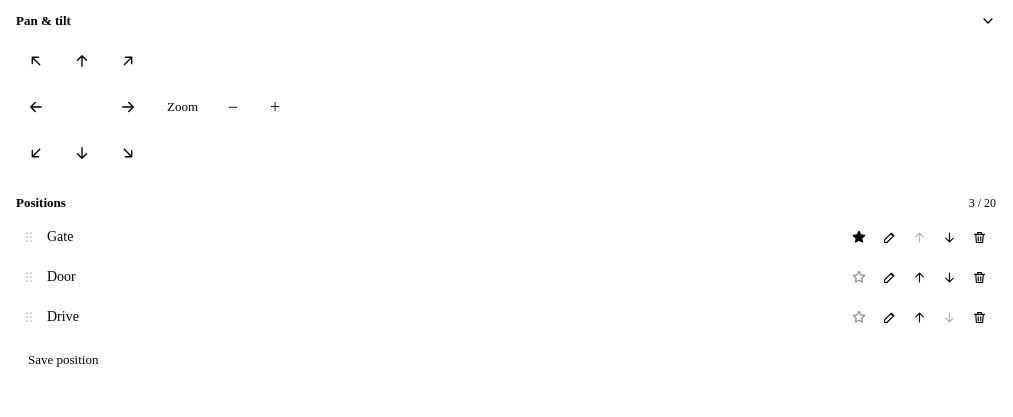
PtzPanel positions › a failed reorder shows the error and reloads the list
Click the button named "Move Gate down". click: (949, 237)
box: [935, 223, 963, 251]
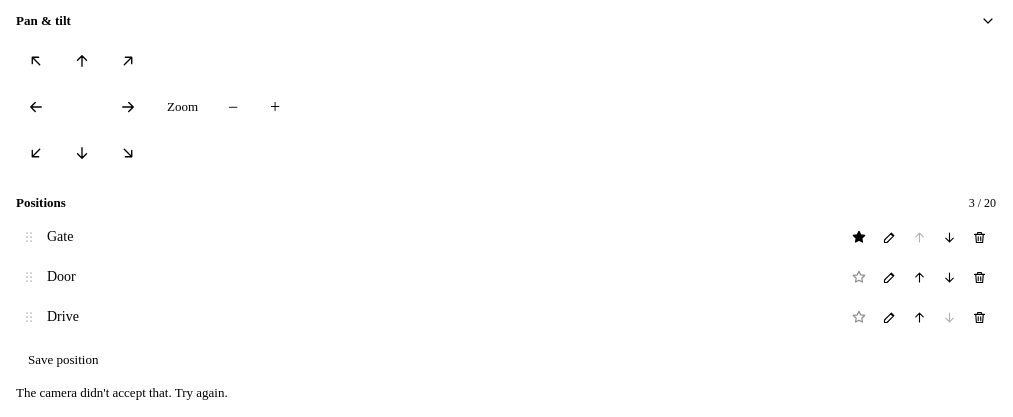
Result: the message "The camera didn't accept that. Try again." is shown at [16, 385, 228, 400]
